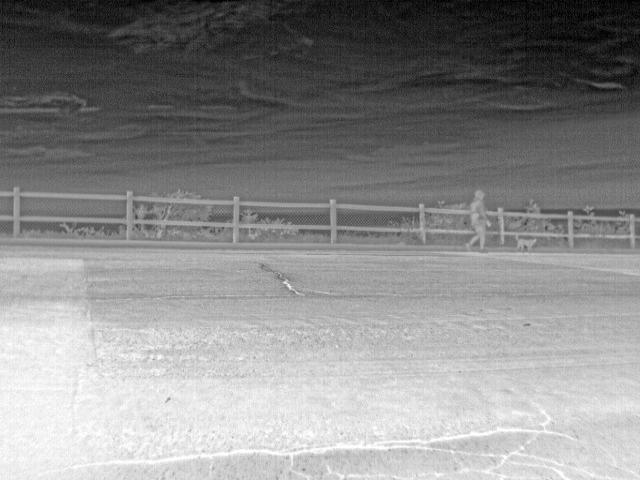dog: (516, 235, 540, 253)
person: (468, 189, 491, 253)
